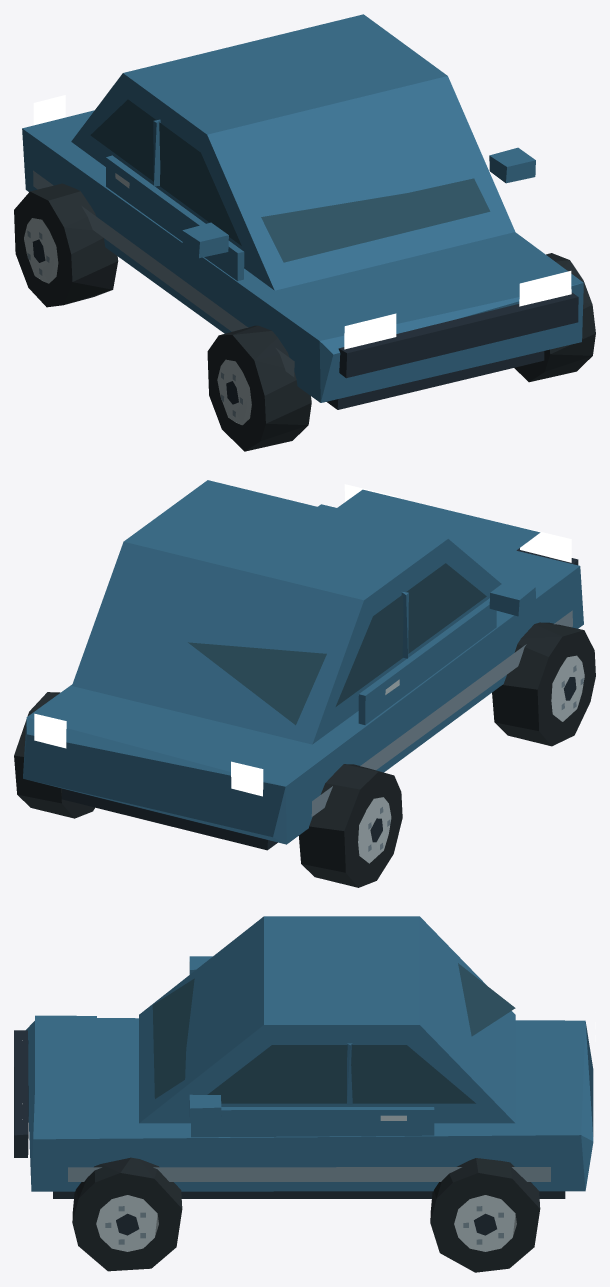
Rendered from road-compact.lod2.glb.
3 views of the same model, one above another, from view 1: azimuth 30°, elevation 25°; view 2: azimuth 150°, elevation 25°; view 3: azimuth 270°, elevation 25° (orthographic). The views are drawn at different scales.
Parts seen in each view (by area): view 1: road-compact__body, road-compact__door_-1, road-compact__wheel_steer_0_l, road-compact__wheel_steer_1_l, road-compact__wheel_steer_0_r; view 2: road-compact__body, road-compact__door_-1, road-compact__wheel_steer_0_l, road-compact__wheel_steer_1_l, road-compact__wheel_steer_1_r; view 3: road-compact__body, road-compact__door_1, road-compact__wheel_steer_0_r, road-compact__wheel_steer_1_r.
Part boxes in pixels (x1,y1,x2,y2): road-compact__body: [22, 14, 583, 409]; road-compact__door_-1: [90, 99, 244, 280]; road-compact__wheel_steer_0_l: [207, 325, 311, 451]; road-compact__wheel_steer_1_l: [14, 183, 118, 307]; road-compact__wheel_steer_0_r: [514, 253, 595, 382]; road-compact__body: [23, 480, 583, 850]; road-compact__door_-1: [335, 563, 496, 724]; road-compact__wheel_steer_0_l: [492, 622, 595, 746]; road-compact__wheel_steer_1_l: [299, 764, 402, 887]; road-compact__wheel_steer_1_r: [14, 692, 94, 818]; road-compact__body: [14, 916, 595, 1198]; road-compact__door_1: [191, 1043, 475, 1137]; road-compact__wheel_steer_0_r: [72, 1157, 182, 1271]; road-compact__wheel_steer_1_r: [430, 1158, 540, 1272].
Bounding box in the file's own units: 2.24 × 1.55 × 3.59.
